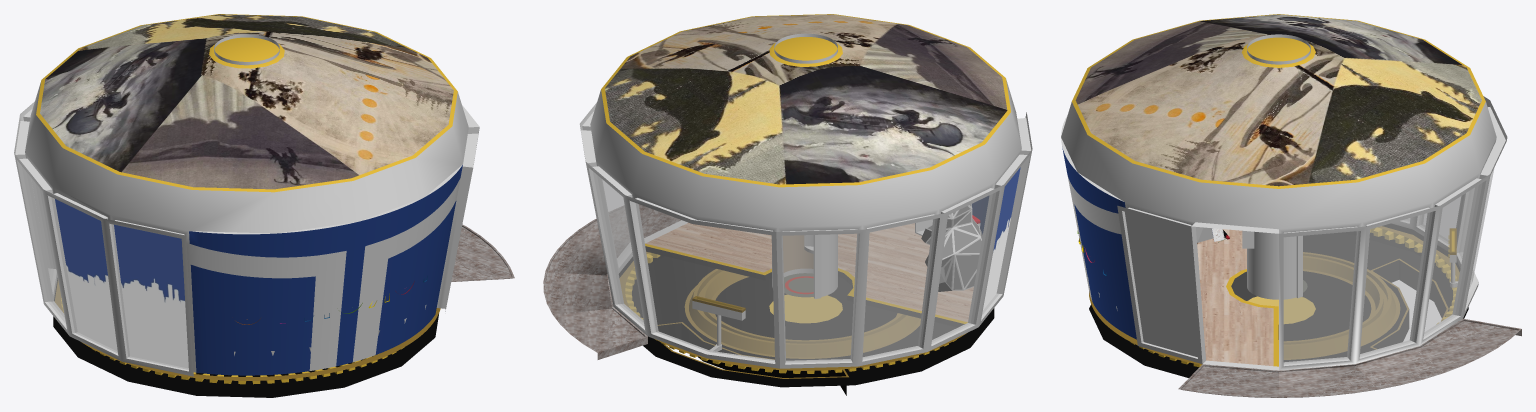
File: mdl_zesty_room_static.gltf
3 views of the same model, side by side, from view 1: azimuth 30°, elevation 25°; view 2: azimuth 150°, elevation 25°; view 3: azimuth 270°, elevation 25° (orthographic). The views are drawn at different scales.
Parts seen in each view (by area): view 1: mdl_zesty_room_static; view 2: mdl_zesty_room_static; view 3: mdl_zesty_room_static.
Boxes of the visible parts, x1=… form: mdl_zesty_room_static: x1=14, y1=14, x2=514, y2=397; mdl_zesty_room_static: x1=543, y1=14, x2=1032, y2=395; mdl_zesty_room_static: x1=1061, y1=14, x2=1521, y2=397.
Bounding box in the file's own units: 9.71 × 6.12 × 9.1.
Materials: 38 (9 with a texture image).
